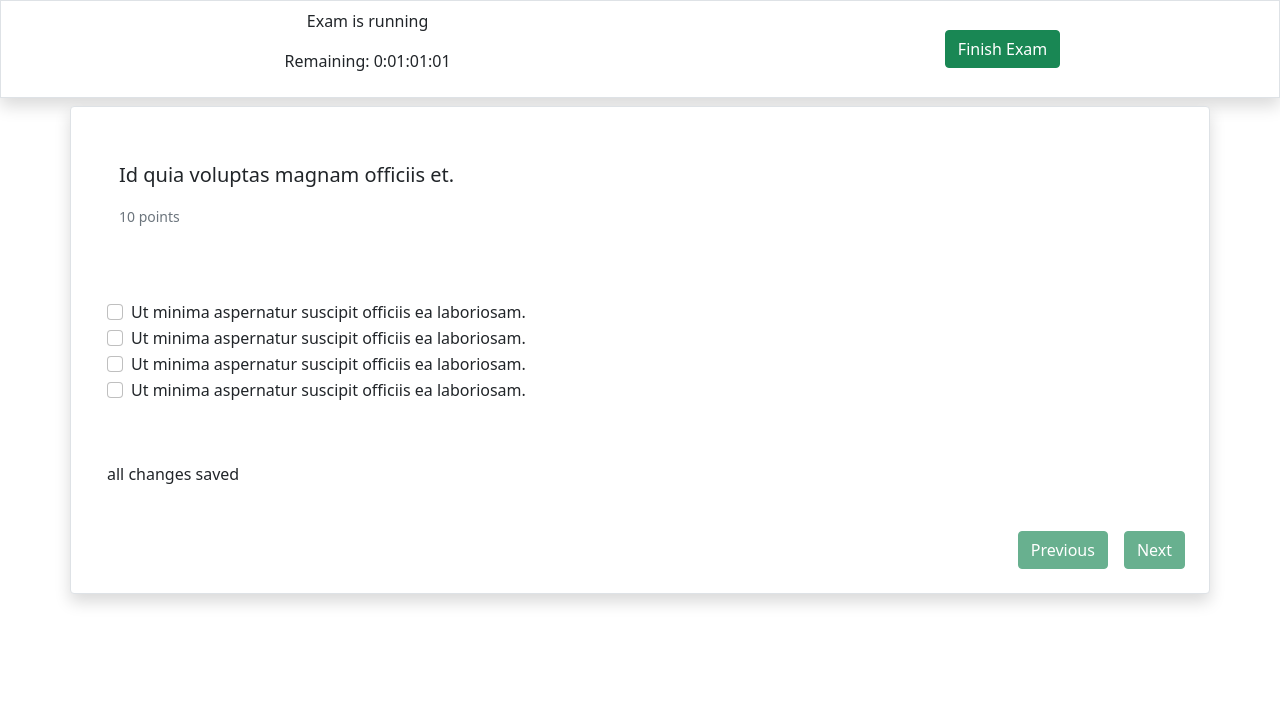
check multiple answers questions › if the question has no answer, user can create answers
What coordinates should you click on to do the following:
click the 1st checkbox labelled "Ut minima aspernatur suscipit officiis ea laboriosam."
I would click on:
 (115, 312)
Its box is [107, 304, 123, 320].
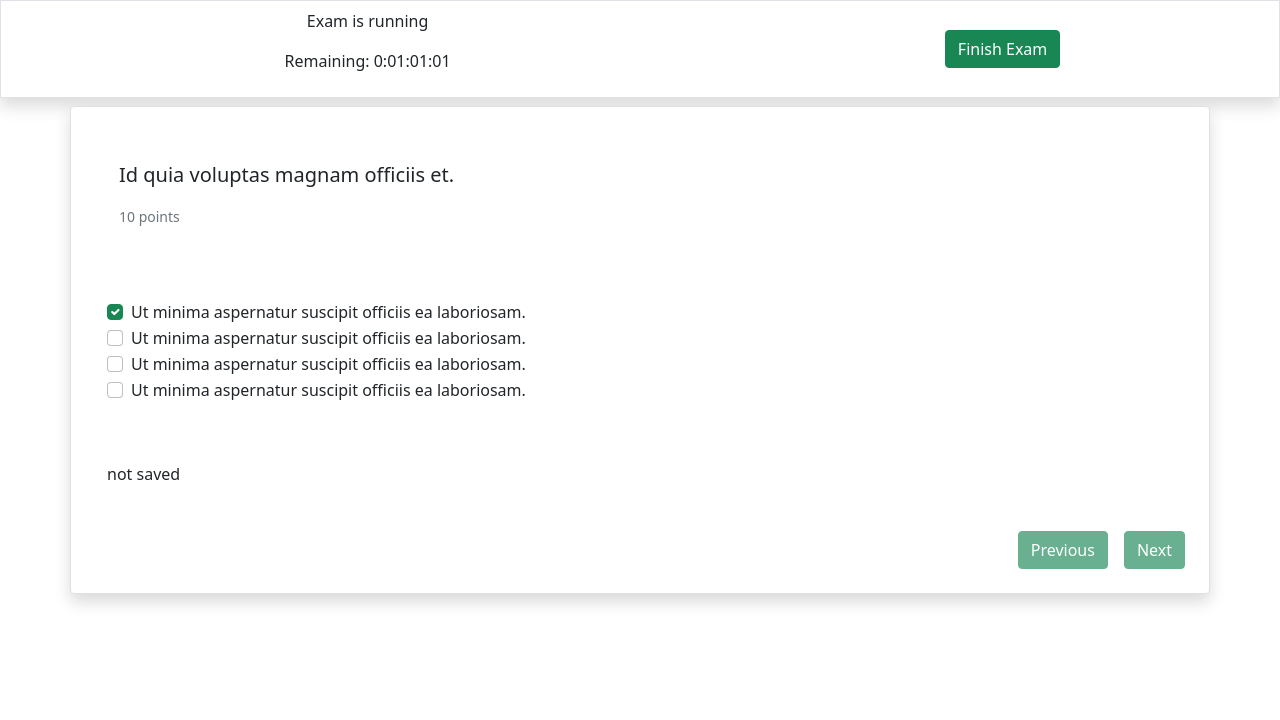
What coordinates should you click on to do the following:
click the 2nd checkbox labelled "Ut minima aspernatur suscipit officiis ea laboriosam."
I would click on:
 (115, 338)
Its box is [107, 330, 123, 346].
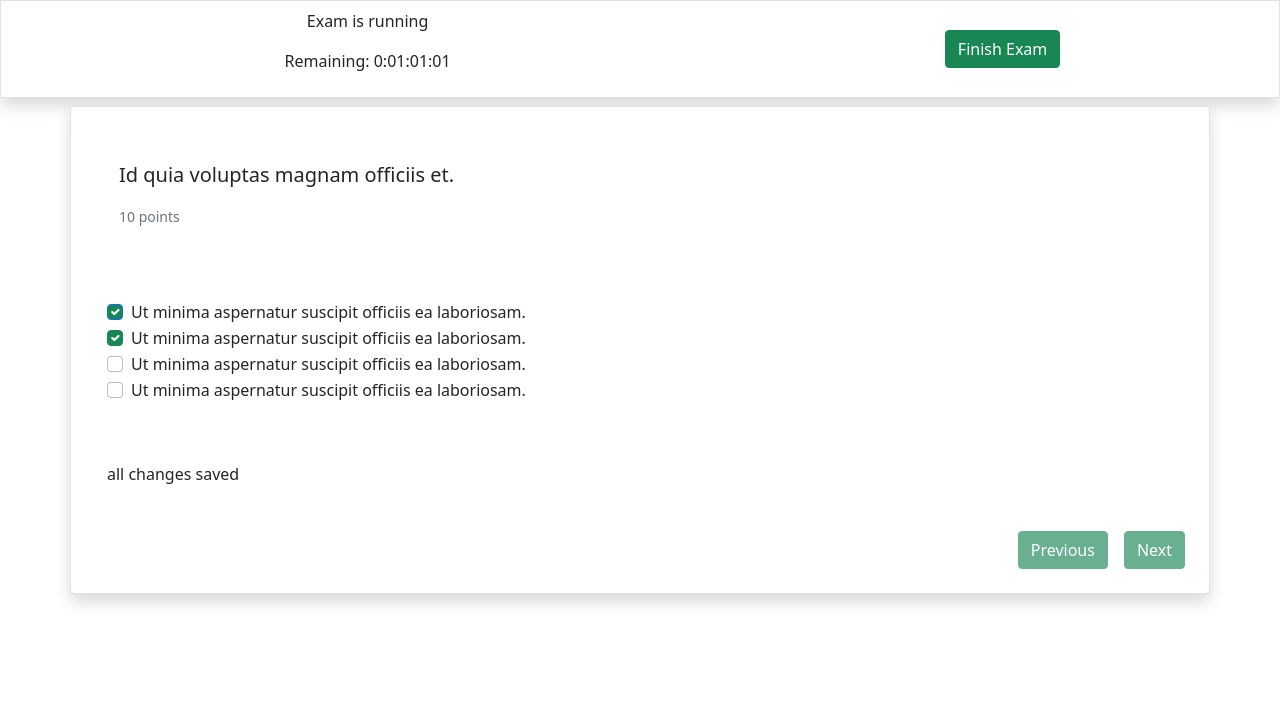
Expected: the 1st checkbox labelled "Ut minima aspernatur suscipit officiis ea laboriosam." is checked, [107, 304, 123, 320]
Expected: the 2nd checkbox labelled "Ut minima aspernatur suscipit officiis ea laboriosam." is checked, [107, 330, 123, 346]
Expected: the text "all changes saved" is shown, [107, 463, 239, 485]
